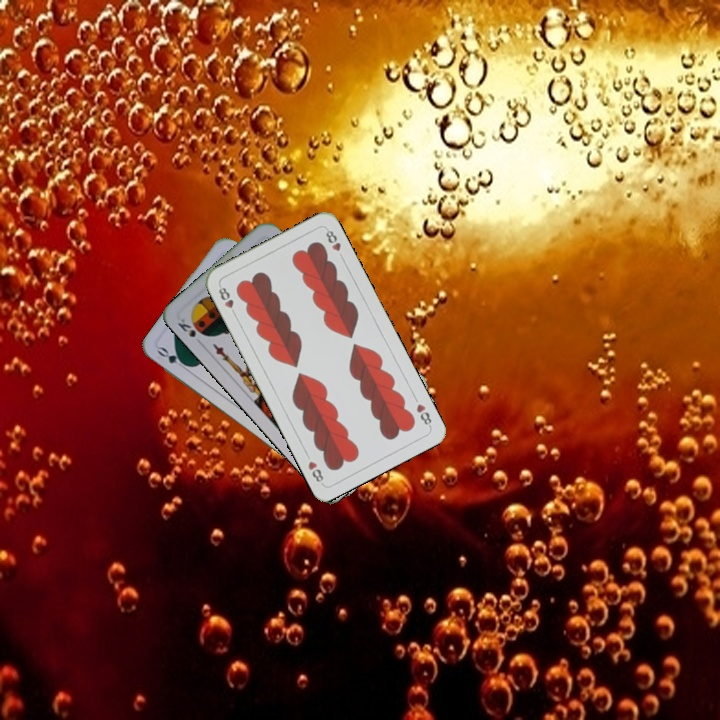GO: (153, 343, 192, 373)
H8: (214, 281, 239, 319), (412, 400, 434, 430)
SK: (173, 314, 198, 340)
